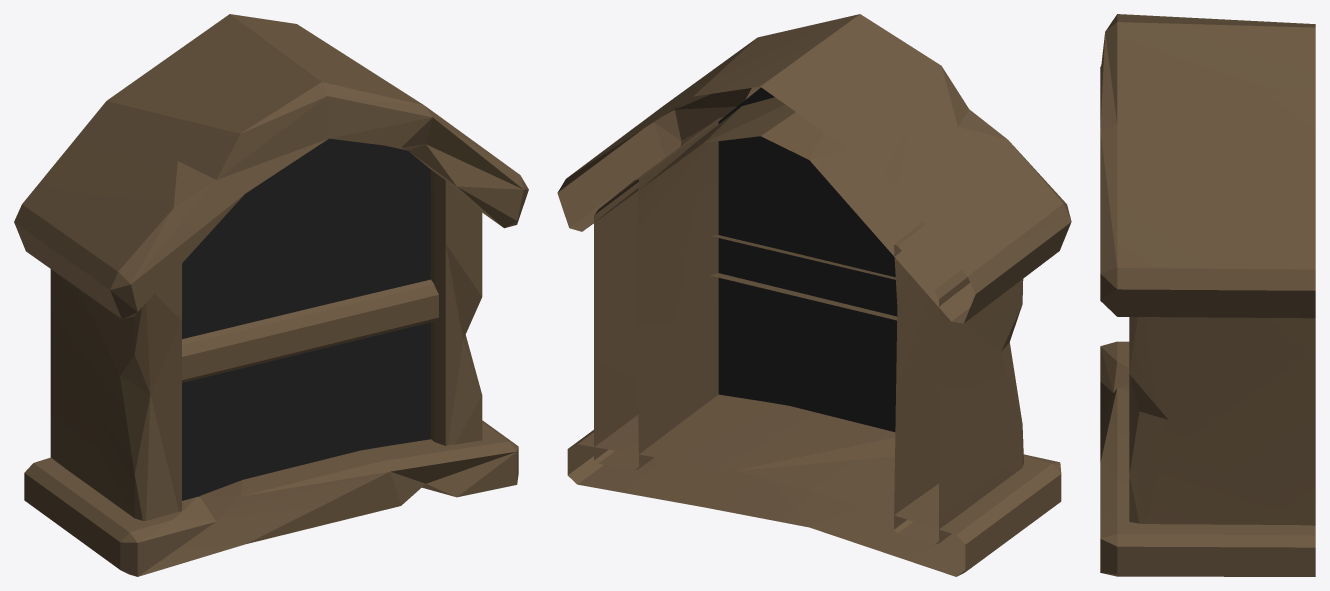
The model's file is Ventana.glb.
The picture shows the model from 3 angles, left to right: view 1: azimuth 30°, elevation 25°; view 2: azimuth 150°, elevation 25°; view 3: azimuth 270°, elevation 25°; orthographic projection. The views are drawn at different scales.
Visible parts, largest first — view 1: SM_Bld_Window_01_2; view 2: SM_Bld_Window_01_2; view 3: SM_Bld_Window_01_2.
Part boxes in pixels (x1,y1,x2,y2): SM_Bld_Window_01_2: [14, 14, 528, 576]; SM_Bld_Window_01_2: [557, 14, 1071, 576]; SM_Bld_Window_01_2: [1100, 14, 1315, 576].
Size of the model in its own units: 1.1 by 1.12 by 0.476.
1 material, 1 textured.
